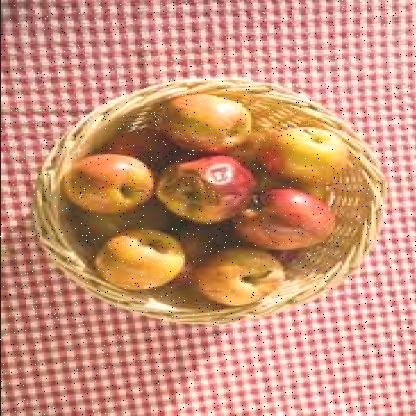damaged_apple: (98, 224, 186, 296), (252, 117, 344, 183), (236, 186, 330, 250), (200, 245, 286, 313), (68, 147, 154, 213), (166, 154, 250, 220), (164, 92, 252, 152)
